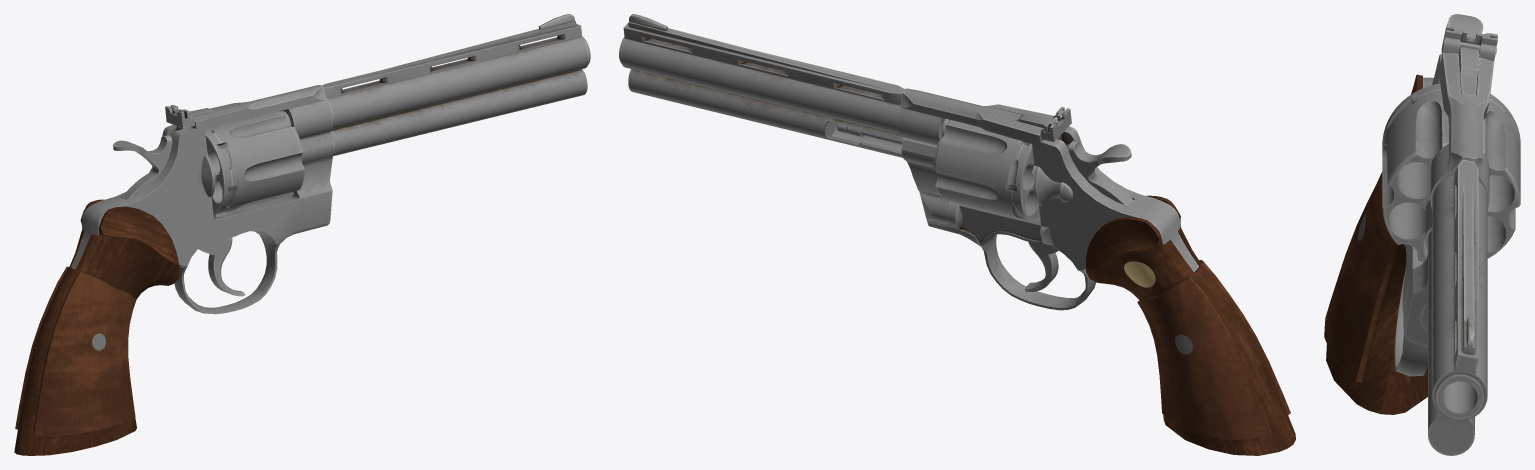
File: gun_edited.glb
The picture shows the model from 3 angles, left to right: view 1: azimuth 30°, elevation 25°; view 2: azimuth 150°, elevation 25°; view 3: azimuth 270°, elevation 25°; orthographic projection. The views are drawn at different scales.
Parts seen in each view (by area): view 1: grip_low.001, barrel_low.001, body_low.001, wheel_low.001, Hammer_low.001, trigger_low.001; view 2: grip_low.001, barrel_low.001, body_low.001, wheel_low.001, wheel_rot_low.001, Hammer_low.001, trigger_low.001, slot_low.001; view 3: barrel_low.001, grip_low.001, wheel_low.001, body_low.001, sight_low.001, sight_fixed_low.001, Hammer_low.001.
Part boxes in pixels (bbox=[...]): grip_low.001: bbox=[14, 199, 180, 455]; barrel_low.001: bbox=[321, 14, 590, 155]; body_low.001: bbox=[71, 85, 334, 314]; wheel_low.001: bbox=[205, 111, 304, 214]; Hammer_low.001: bbox=[113, 135, 172, 199]; trigger_low.001: bbox=[198, 237, 244, 296]; grip_low.001: bbox=[1086, 195, 1295, 455]; barrel_low.001: bbox=[619, 14, 904, 157]; body_low.001: bbox=[897, 88, 1199, 310]; wheel_low.001: bbox=[933, 119, 1040, 221]; wheel_rot_low.001: bbox=[901, 137, 950, 224]; Hammer_low.001: bbox=[1067, 141, 1133, 206]; trigger_low.001: bbox=[1025, 242, 1058, 291]; slot_low.001: bbox=[1032, 165, 1061, 205]; barrel_low.001: bbox=[1428, 159, 1487, 455]; grip_low.001: bbox=[1324, 74, 1427, 414]; wheel_low.001: bbox=[1382, 83, 1520, 262]; body_low.001: bbox=[1394, 53, 1494, 376]; sight_low.001: bbox=[1441, 25, 1497, 61]; sight_fixed_low.001: bbox=[1458, 42, 1480, 96]; Hammer_low.001: bbox=[1447, 14, 1483, 37].
Bounding box in the file's own units: 0.2894 × 0.1343 × 0.0533.
Materials: 1 (1 with a texture image).
